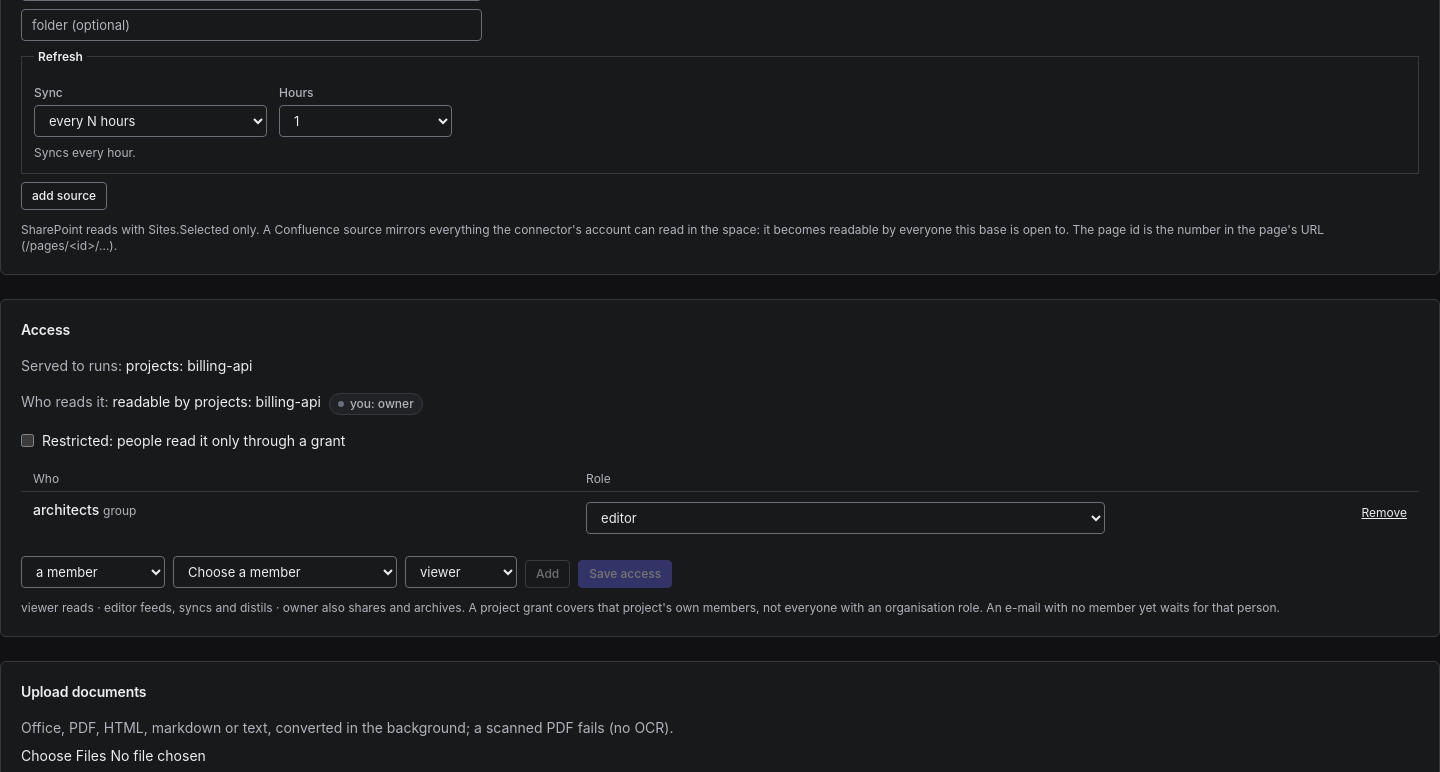
Test: the access card (S42-11) › an owner edits the grants: change a role, remove one, add a member, save the whole list
(page scrolled)
Expected: the table with test id "knowledge-grants" shows "architects", [33,500,99,518]
Select "viewer" in the dropdown named "Role of architects": [846, 518] box [586,502,1105,534]
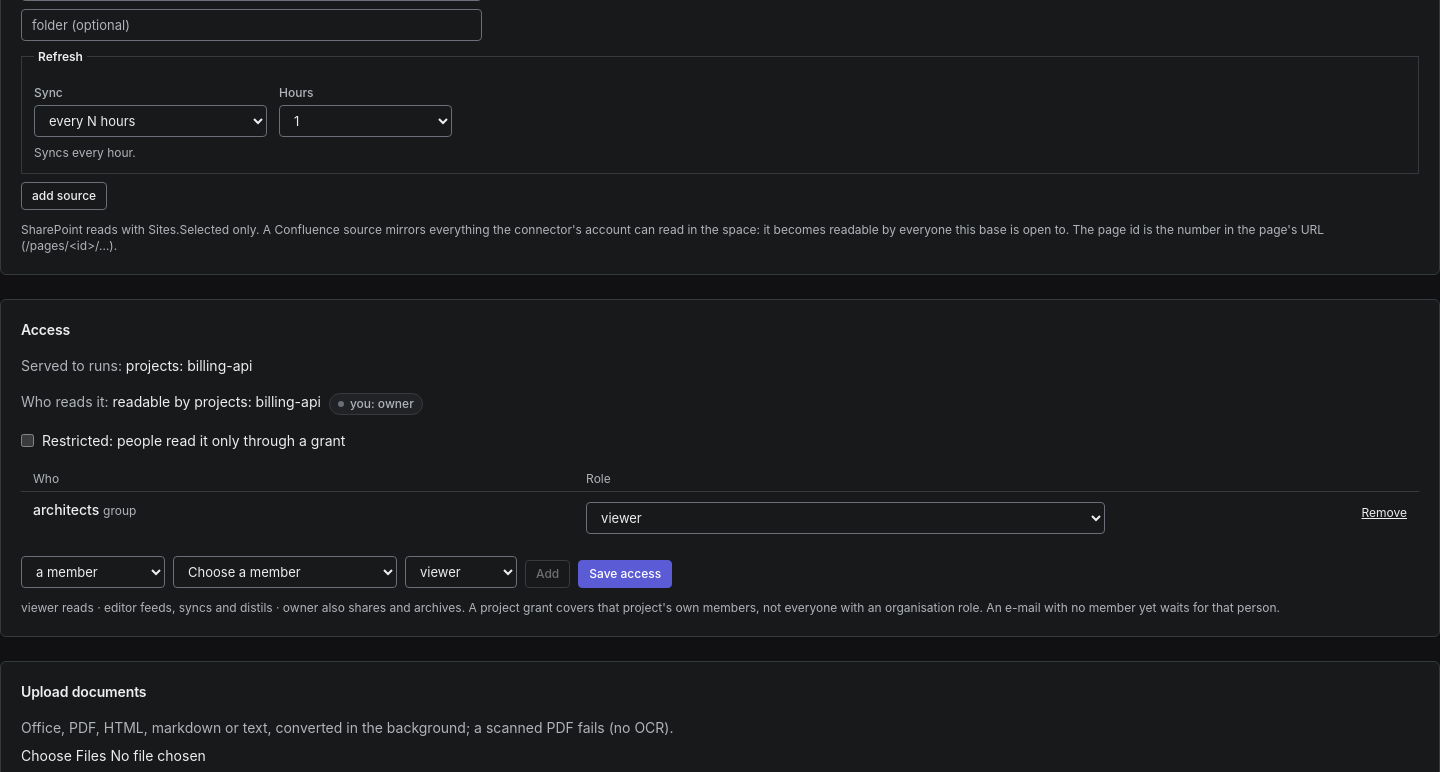
Select "a member" in the dropdown named "Grant to": [93, 572] box [21,556,165,588]
Select "bo@varga.dev" in the dropdown named "Member": [285, 572] box [173,556,397,588]
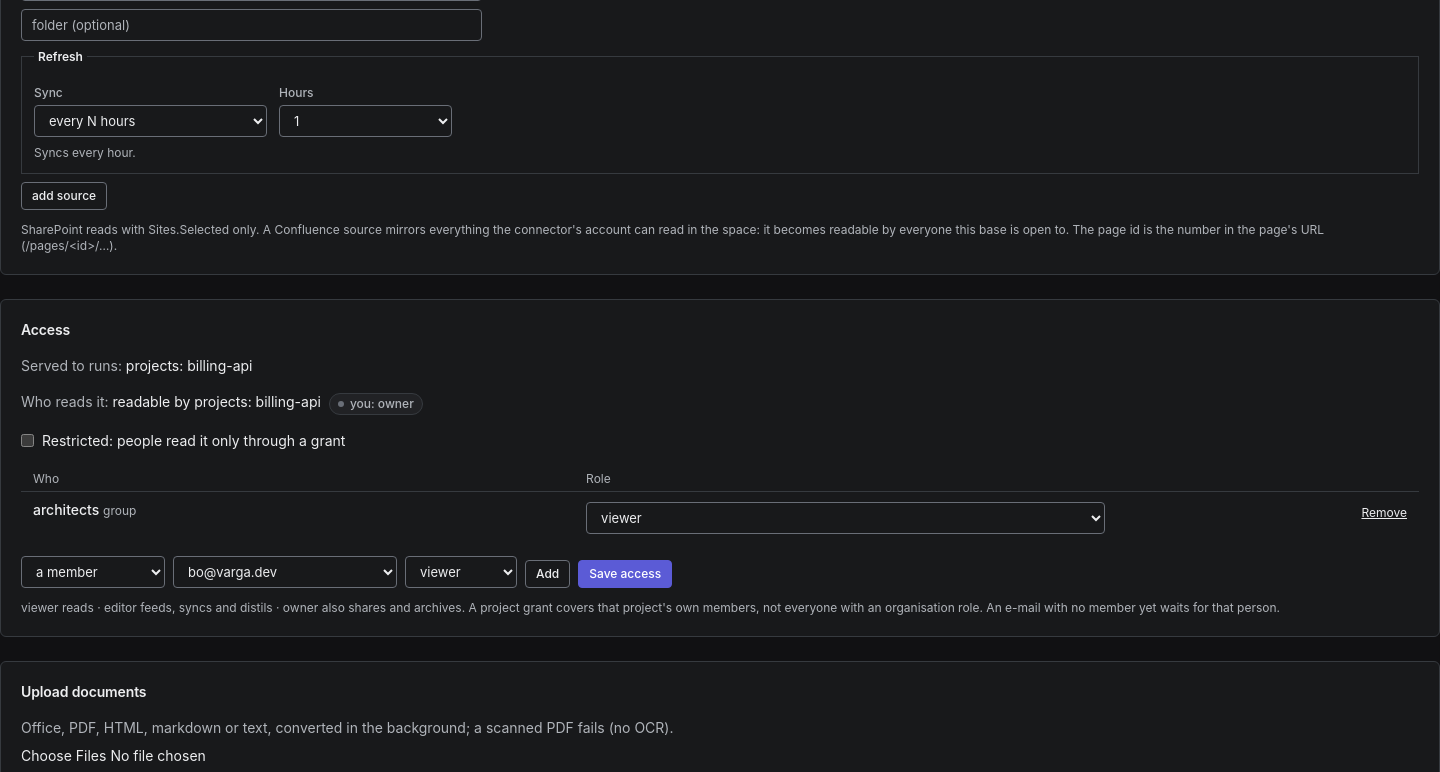
Select "owner" in the dropdown named "Role": [461, 572] box [405,556,517,588]
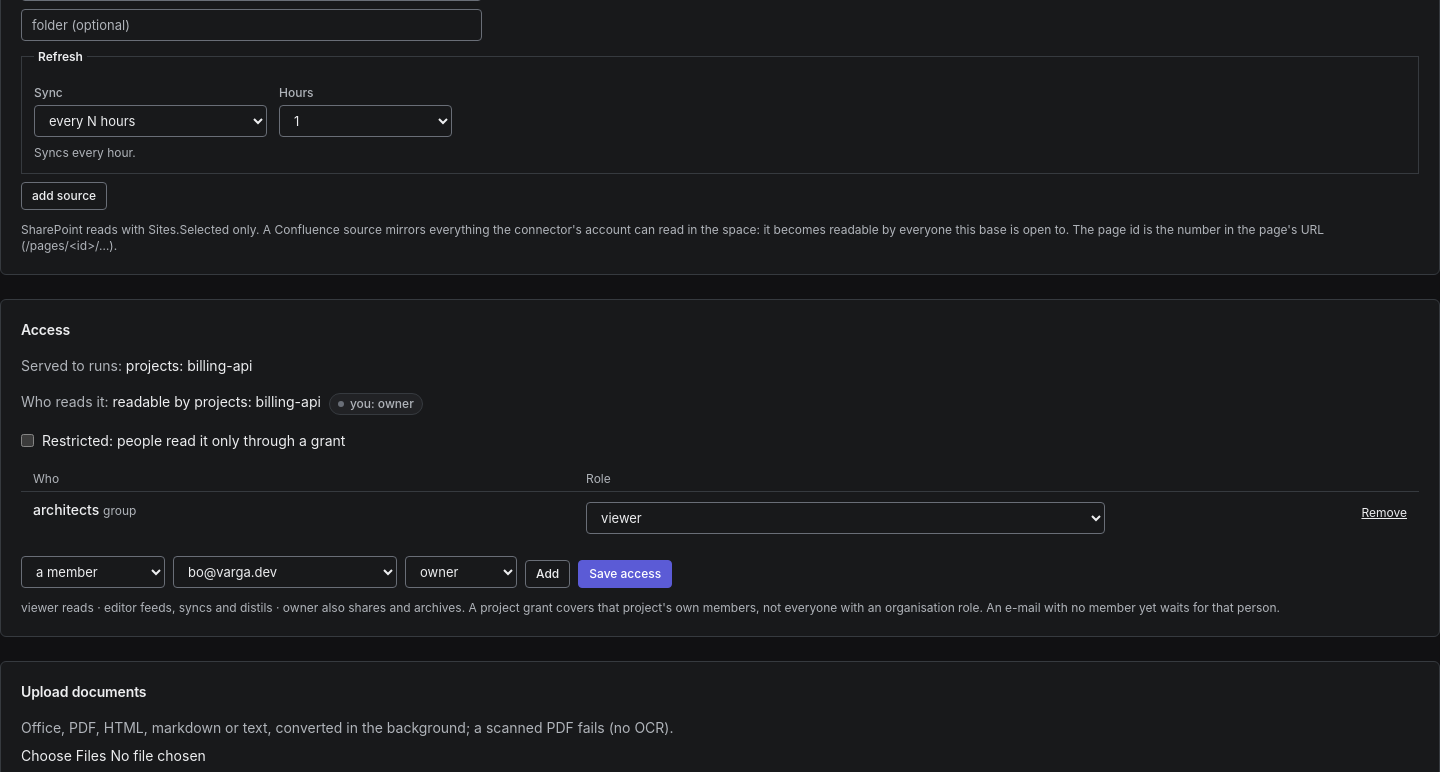
Click the button "Add": [548, 574] box [525,560,570,588]
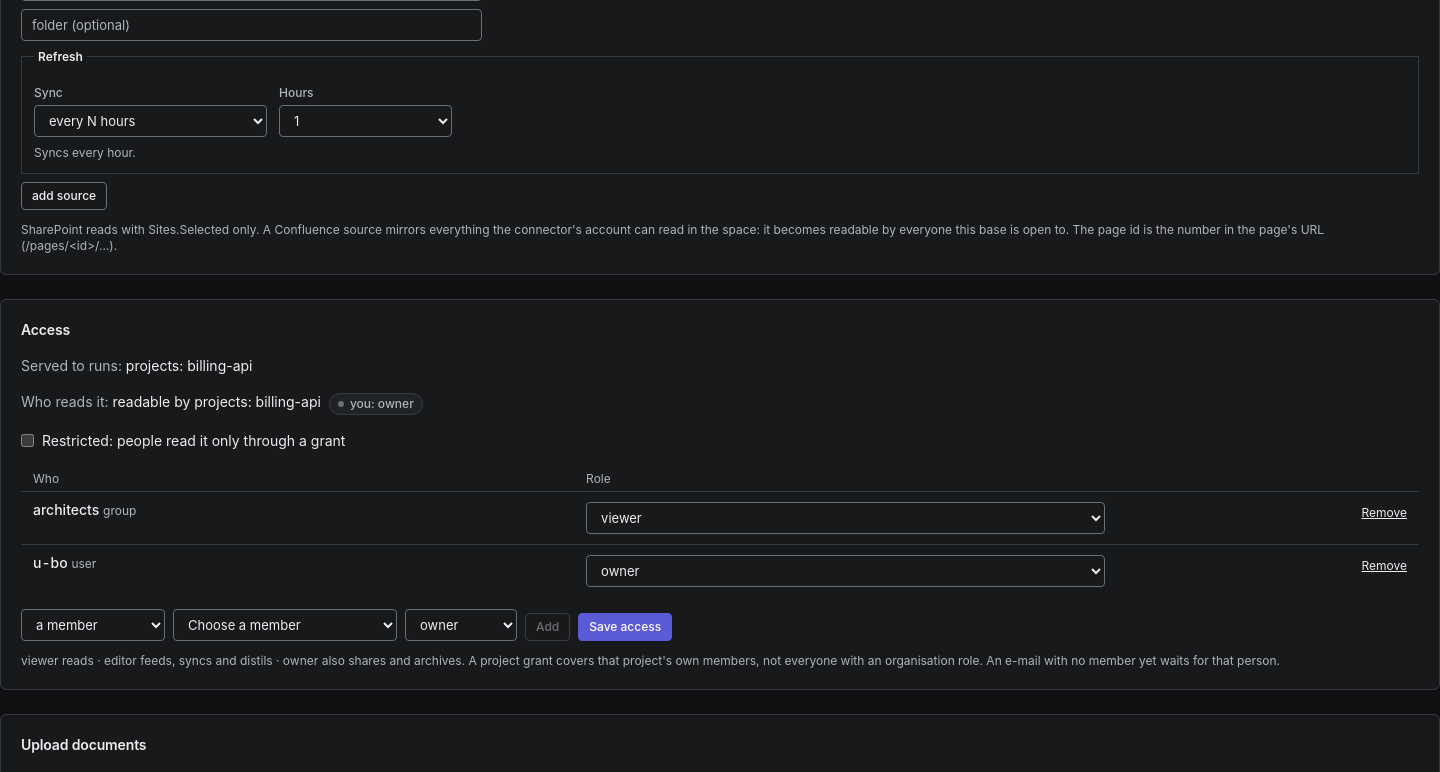
Click the button "Save access": [625, 626] box [578,612,672,640]
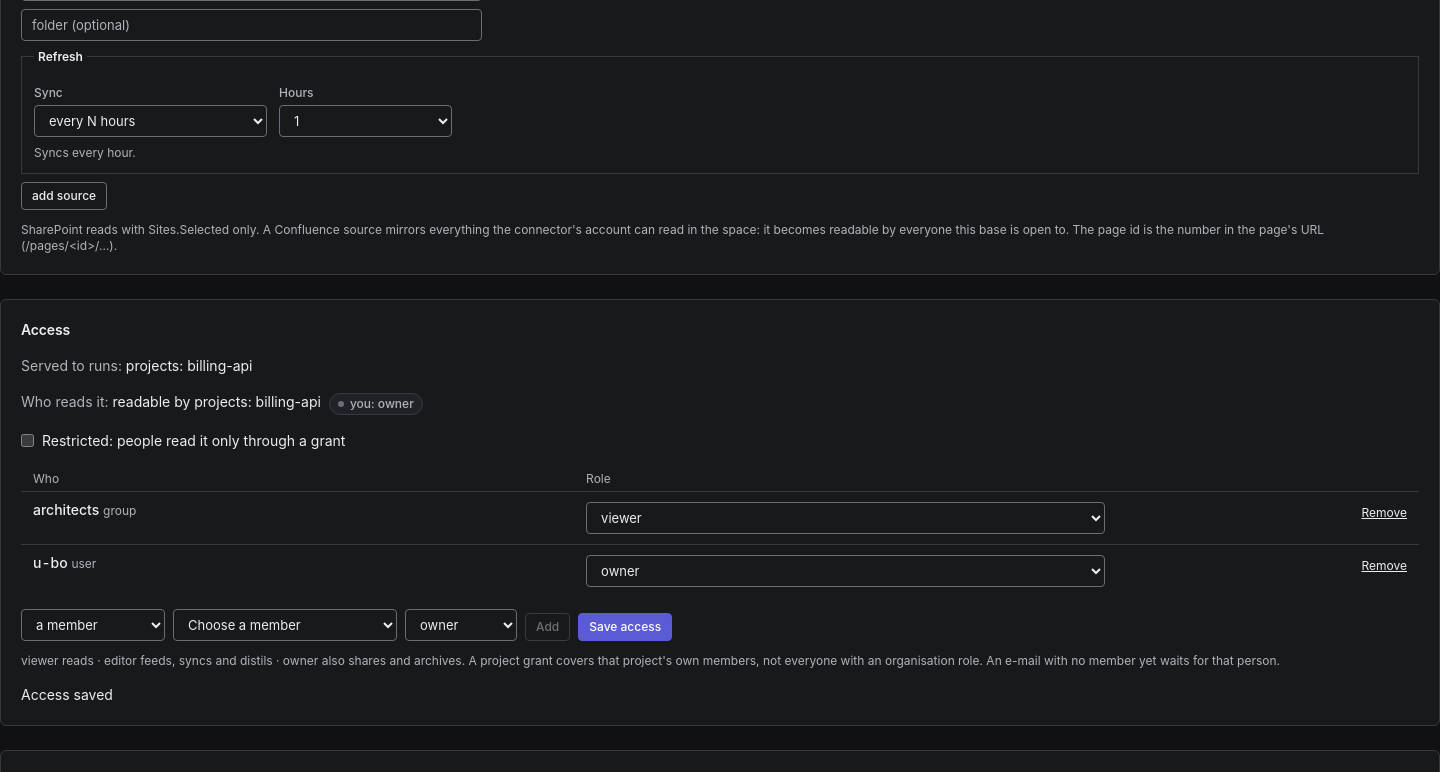
Now the text "Access saved" is shown, box [21,686,113,702]
